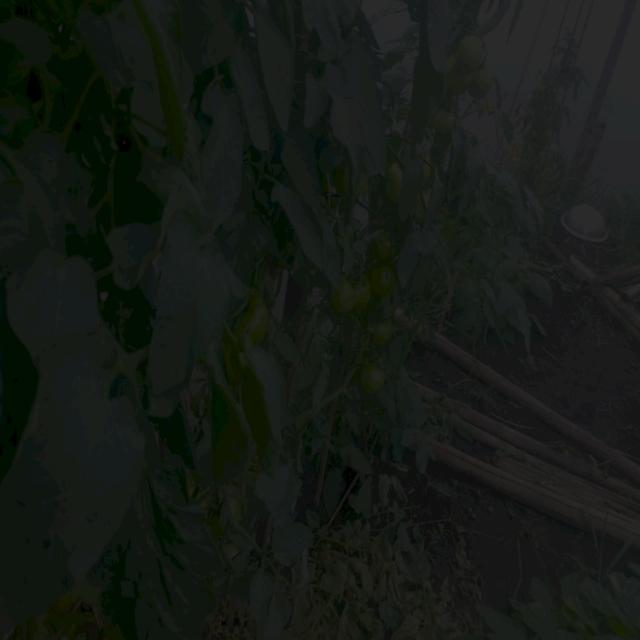tomato: (233, 289, 273, 337), (361, 363, 389, 406), (330, 276, 356, 321), (382, 160, 406, 206), (470, 68, 503, 101), (347, 266, 370, 312), (367, 223, 395, 260), (459, 43, 493, 69), (432, 95, 454, 134), (367, 316, 394, 343), (373, 266, 395, 295)
